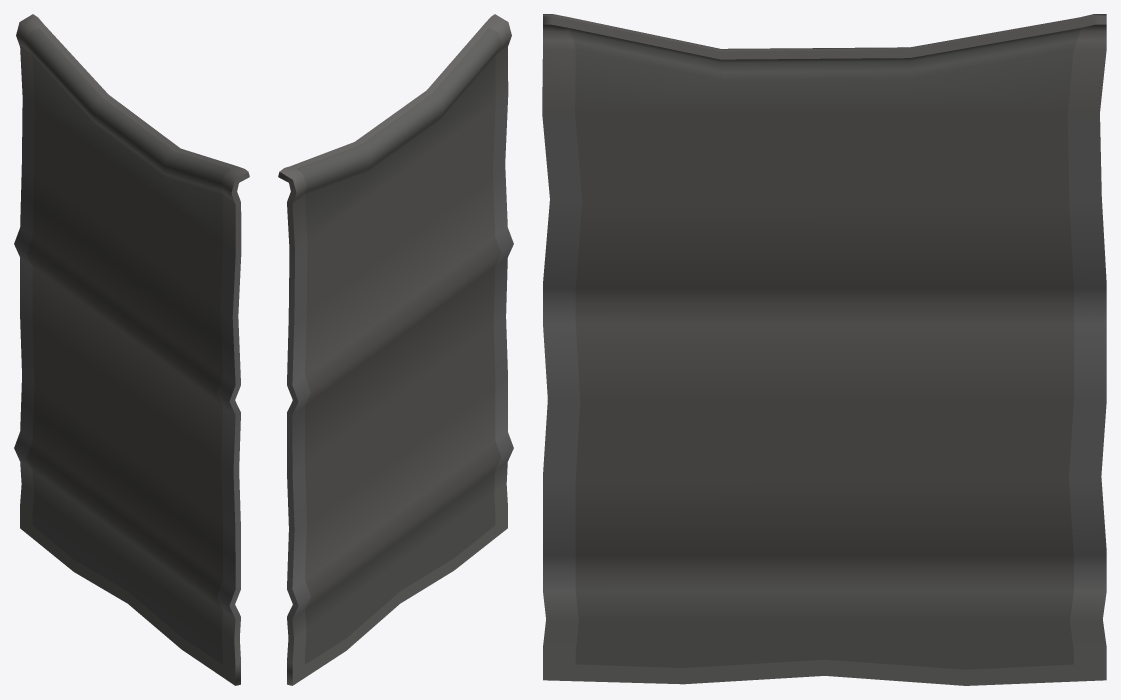
Rendered from Scaffold_sheet_2_1.fbx.
3 renders of one model, left to right at view 1: azimuth 30°, elevation 25°; view 2: azimuth 150°, elevation 25°; view 3: azimuth 270°, elevation 25°, orthographic. The views are drawn at different scales.
Parts seen in each view (by area): view 1: Scaffold_sheet_2_1; view 2: Scaffold_sheet_2_1; view 3: Scaffold_sheet_2_1.
Part boxes in pixels (box(x1,y1,x2,y2)): Scaffold_sheet_2_1: box(14, 14, 249, 685); Scaffold_sheet_2_1: box(278, 14, 513, 685); Scaffold_sheet_2_1: box(542, 14, 1106, 685).
Size of the model in its own units: 10.1 by 242 by 184.
